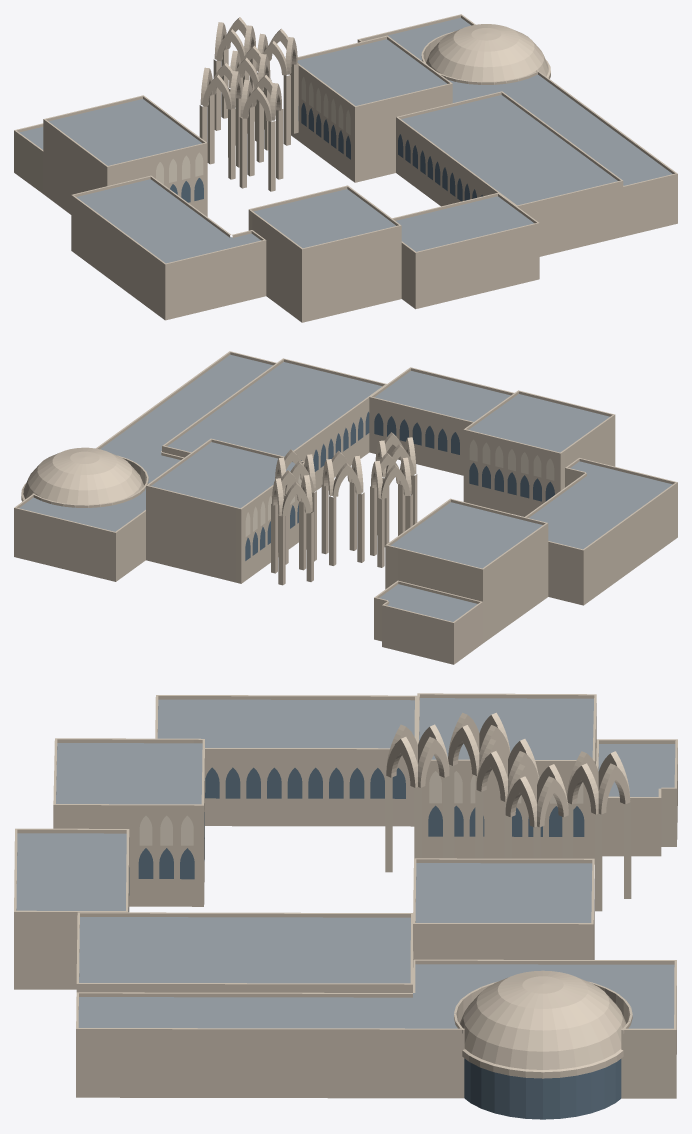
File: detail.glb
The picture shows the model from 3 angles, top to bottom: view 1: azimuth 30°, elevation 25°; view 2: azimuth 150°, elevation 25°; view 3: azimuth 270°, elevation 25°; orthographic projection. The views are drawn at different scales.
Parts seen in each view (by area): view 1: pacific-science-center; view 2: pacific-science-center; view 3: pacific-science-center.
Boxes of the visible parts, box(x1,y1,x2,y2) form: pacific-science-center: box(14, 14, 677, 322); pacific-science-center: box(14, 351, 677, 664); pacific-science-center: box(14, 693, 677, 1119).
Size of the model in its own units: 167 by 37.9 by 135.
